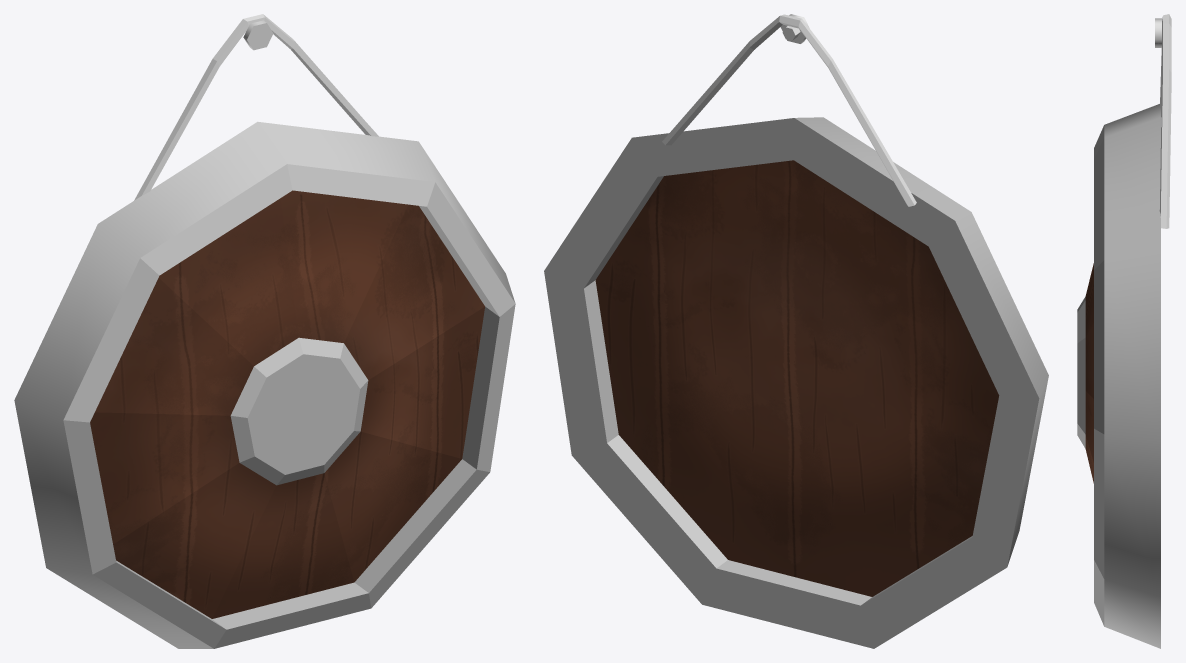
Rendered from escudo.fbx.
3 views of the same model, side by side, from view 1: azimuth 30°, elevation 25°; view 2: azimuth 150°, elevation 25°; view 3: azimuth 270°, elevation 25° (orthographic). The views are drawn at different scales.
Visible parts, largest first — view 1: Cylinder001, Cylinder005; view 2: Cylinder001, Cylinder005; view 3: Cylinder001, Cylinder005, Cylinder007.
Part boxes in pixels (x1,y1,x2,y2): Cylinder001: (14,121,515,648); Cylinder005: (134,14,378,200); Cylinder001: (544,117,1048,648); Cylinder005: (662,14,916,206); Cylinder001: (1077,104,1160,648); Cylinder005: (1159,14,1171,228); Cylinder007: (1155,18,1161,47).
Size of the model in its own units: 48.5 by 57.51 by 8.37.
